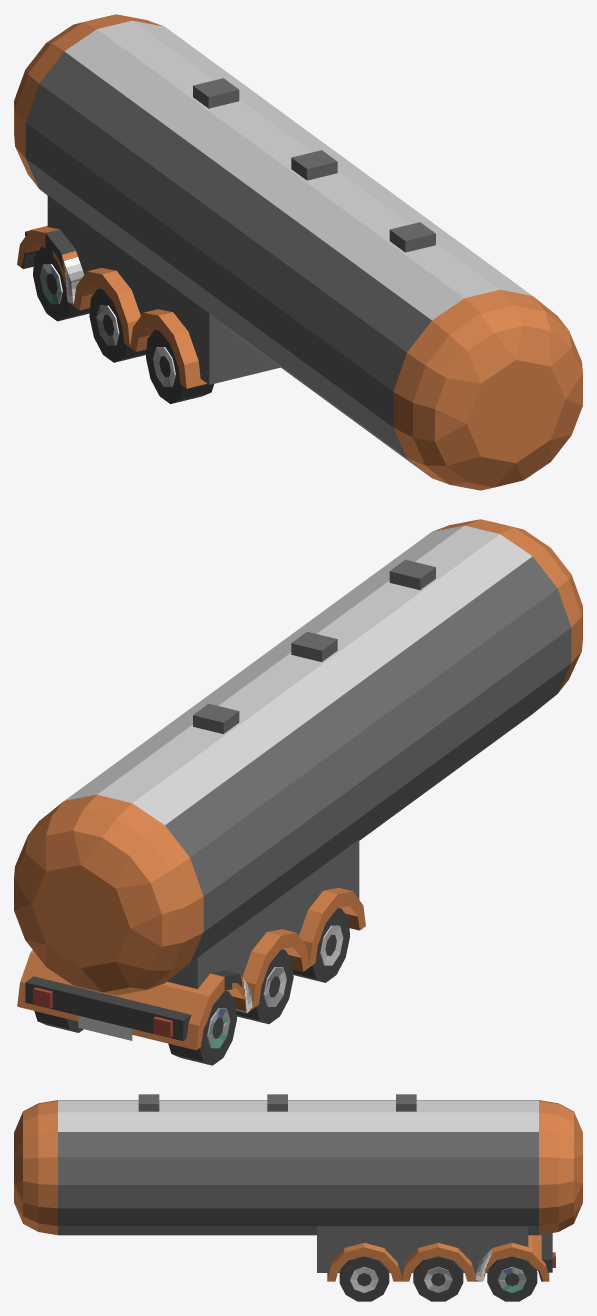
The model's file is transport_truck_014.fbx.
3 views of the same model, one above another, from view 1: azimuth 30°, elevation 25°; view 2: azimuth 150°, elevation 25°; view 3: azimuth 270°, elevation 25° (orthographic). The views are drawn at different scales.
Visible parts, largest first — view 1: transport_truck_014; view 2: transport_truck_014; view 3: transport_truck_014.
Boxes of the visible parts, x1,y1,x2,y2 form: transport_truck_014: [14, 14, 582, 490]; transport_truck_014: [14, 519, 582, 1065]; transport_truck_014: [14, 1094, 582, 1301].
Bounding box in the file's own units: 177 × 254 × 745.
